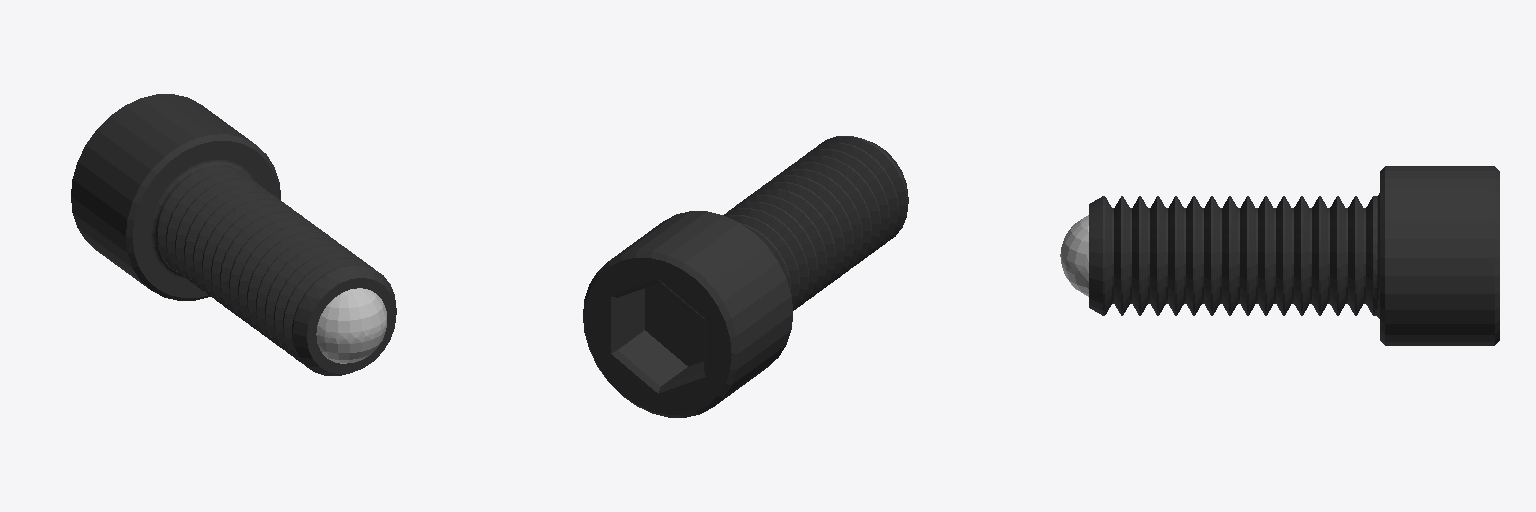
File: bcr-12x30.obj
The picture shows the model from 3 angles: view 1: azimuth 30°, elevation 25°; view 2: azimuth 150°, elevation 25°; view 3: azimuth 270°, elevation 25°; orthographic projection.
Parts seen in each view (by area): view 1: bcr-12x30_1; view 2: bcr-12x30_1; view 3: bcr-12x30_1.
Part boxes in pixels (x1,y1,x2,y2): bcr-12x30_1: (71, 94, 396, 375); bcr-12x30_1: (583, 136, 908, 417); bcr-12x30_1: (1060, 166, 1499, 345).
Size of the model in its own units: 18 by 17.9 by 44.